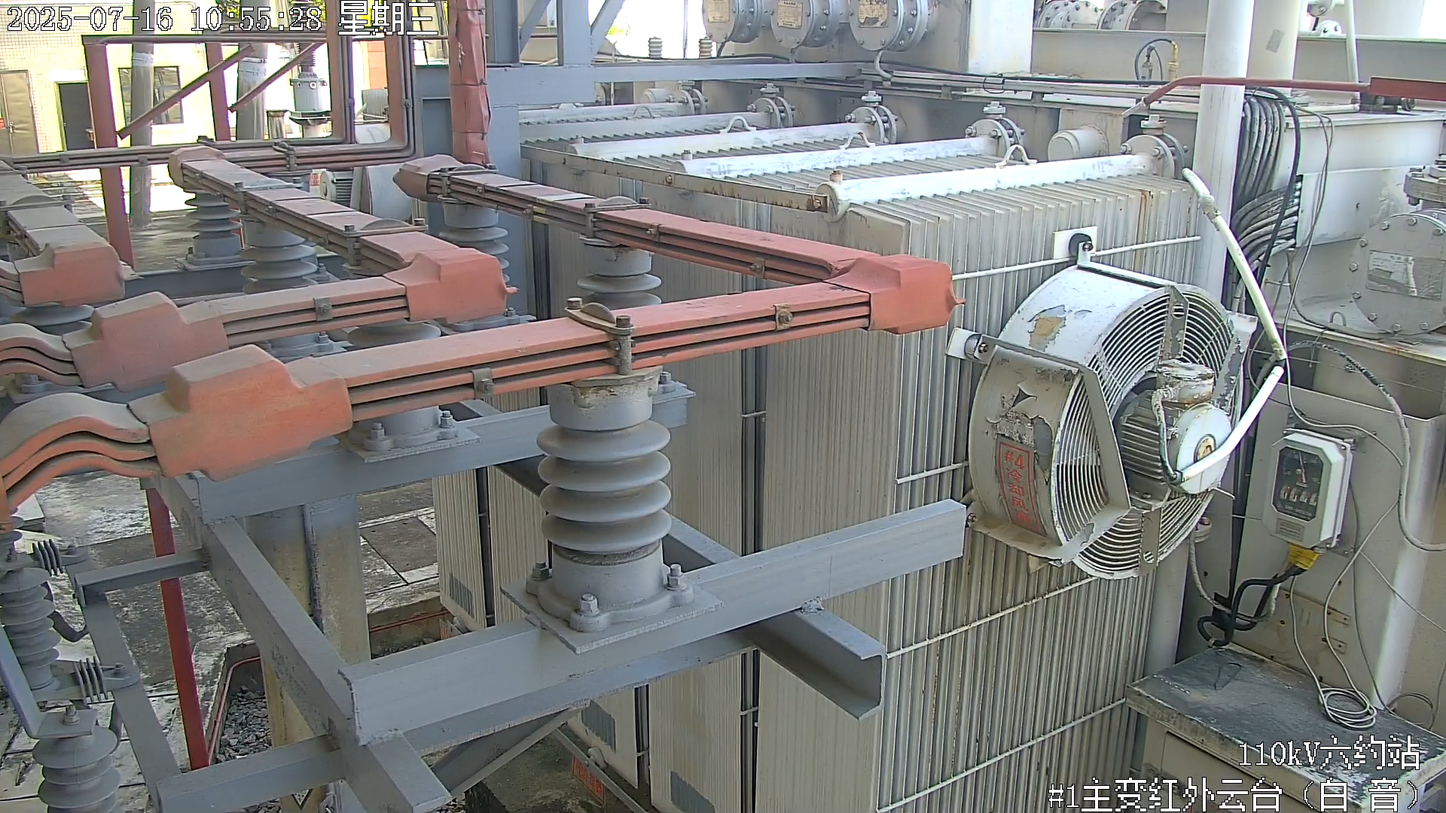MainTR: (318, 1, 1446, 813)
